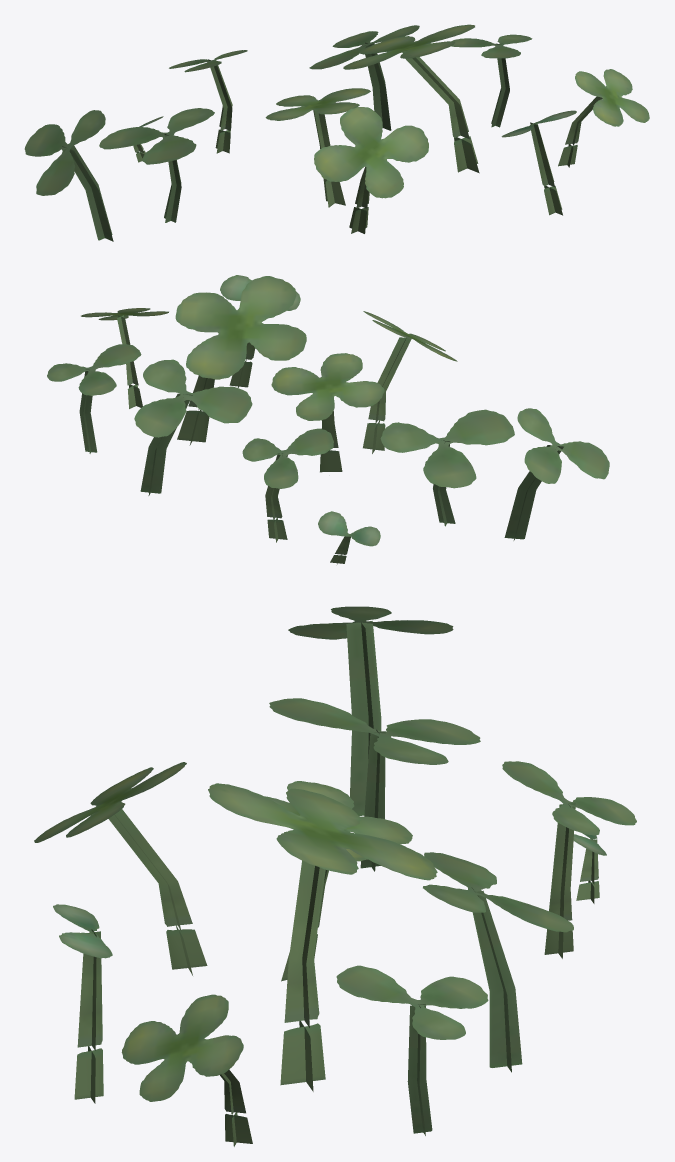
The model's file is pref_sm_beach_techclover02_lv2.fbx.
The picture shows the model from 3 angles, top to bottom: view 1: azimuth 30°, elevation 25°; view 2: azimuth 150°, elevation 25°; view 3: azimuth 270°, elevation 25°; orthographic projection. The views are drawn at different scales.
Visible parts, largest first — view 1: pref_sm_beach_techclover02_lv2; view 2: pref_sm_beach_techclover02_lv2; view 3: pref_sm_beach_techclover02_lv2.
Boxes of the visible parts, <box> form: pref_sm_beach_techclover02_lv2: <box>24,24,649,241</box>; pref_sm_beach_techclover02_lv2: <box>47,275,609,564</box>; pref_sm_beach_techclover02_lv2: <box>34,606,636,1146</box>.
Bounding box in the file's own units: 2.5 × 0.6378 × 1.47.
